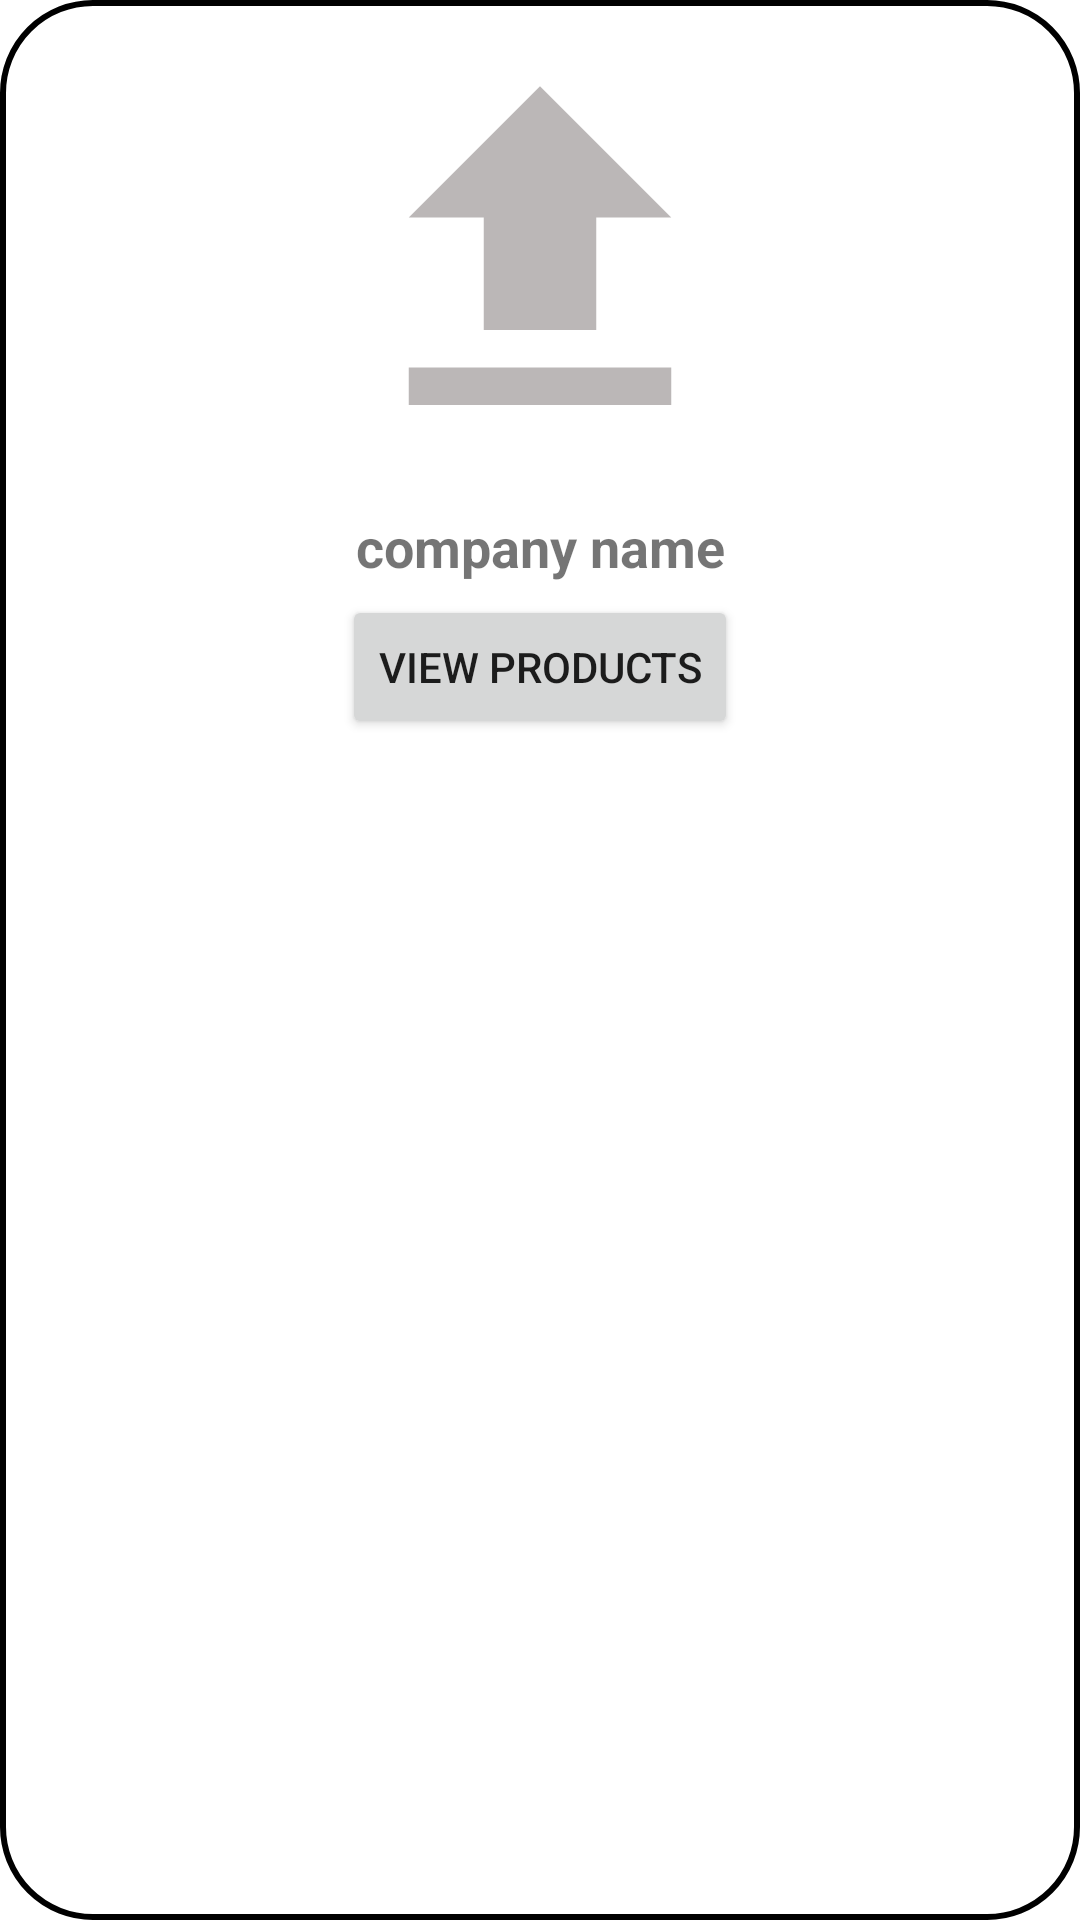

Where to tap for icons on this 1080×1920 app screen, as (x=x, y=y):
upload: (x=540, y=246)
